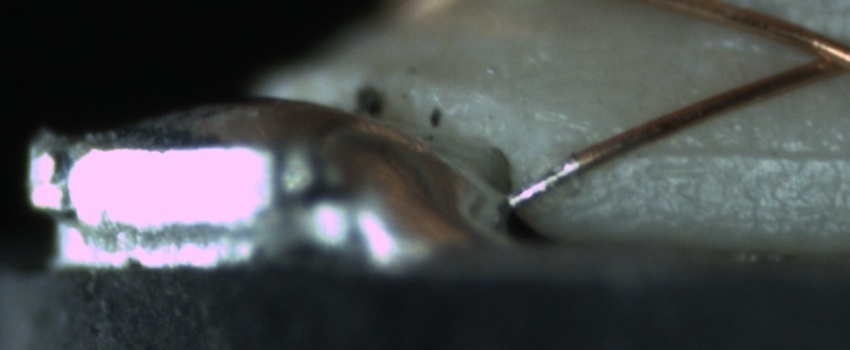CL: (777, 27, 848, 87)
DL: (626, 122, 850, 182)
TS: (507, 157, 579, 207)
